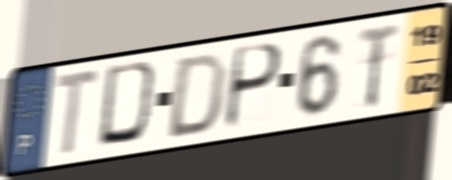6: (295, 30, 346, 121)
D: (95, 58, 164, 150), (163, 50, 230, 142)
P: (221, 40, 285, 133)
T: (52, 65, 103, 161), (356, 19, 402, 113)
